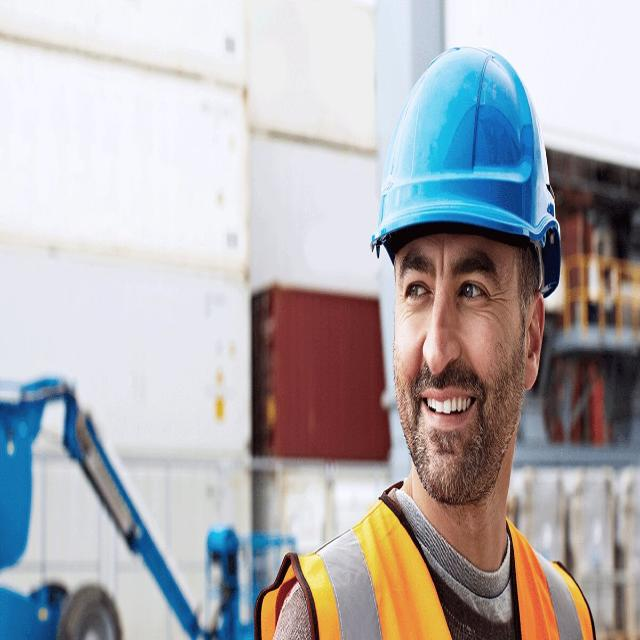illegal_helmet: (364, 27, 566, 524)
